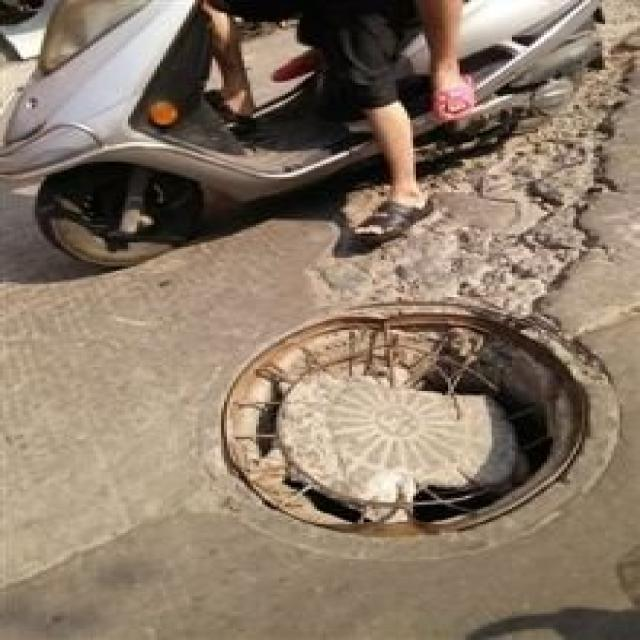manhole: (198, 293, 608, 548)
